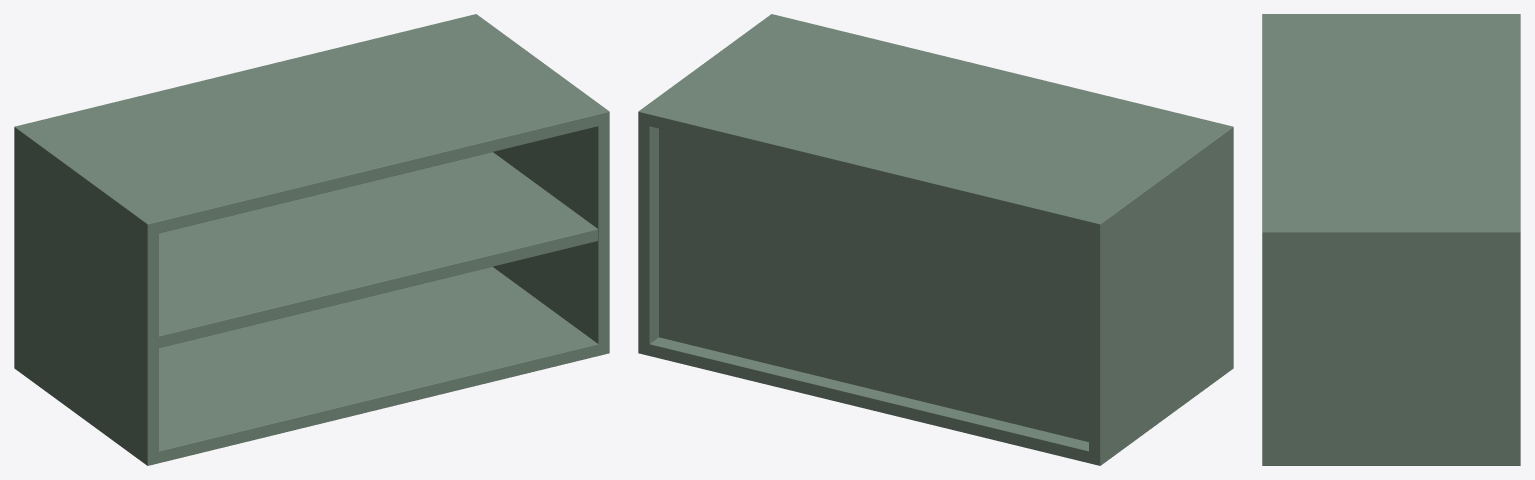
File: MOD_2X1_S_B_VA.glb
The picture shows the model from 3 angles, left to right: view 1: azimuth 30°, elevation 25°; view 2: azimuth 150°, elevation 25°; view 3: azimuth 270°, elevation 25°; orthographic projection. The views are drawn at different scales.
Bounding box in the file's own units: 720 × 360 × 360.
